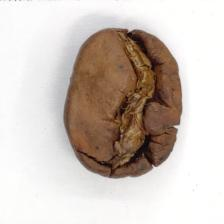NG: (112, 26, 182, 180)
